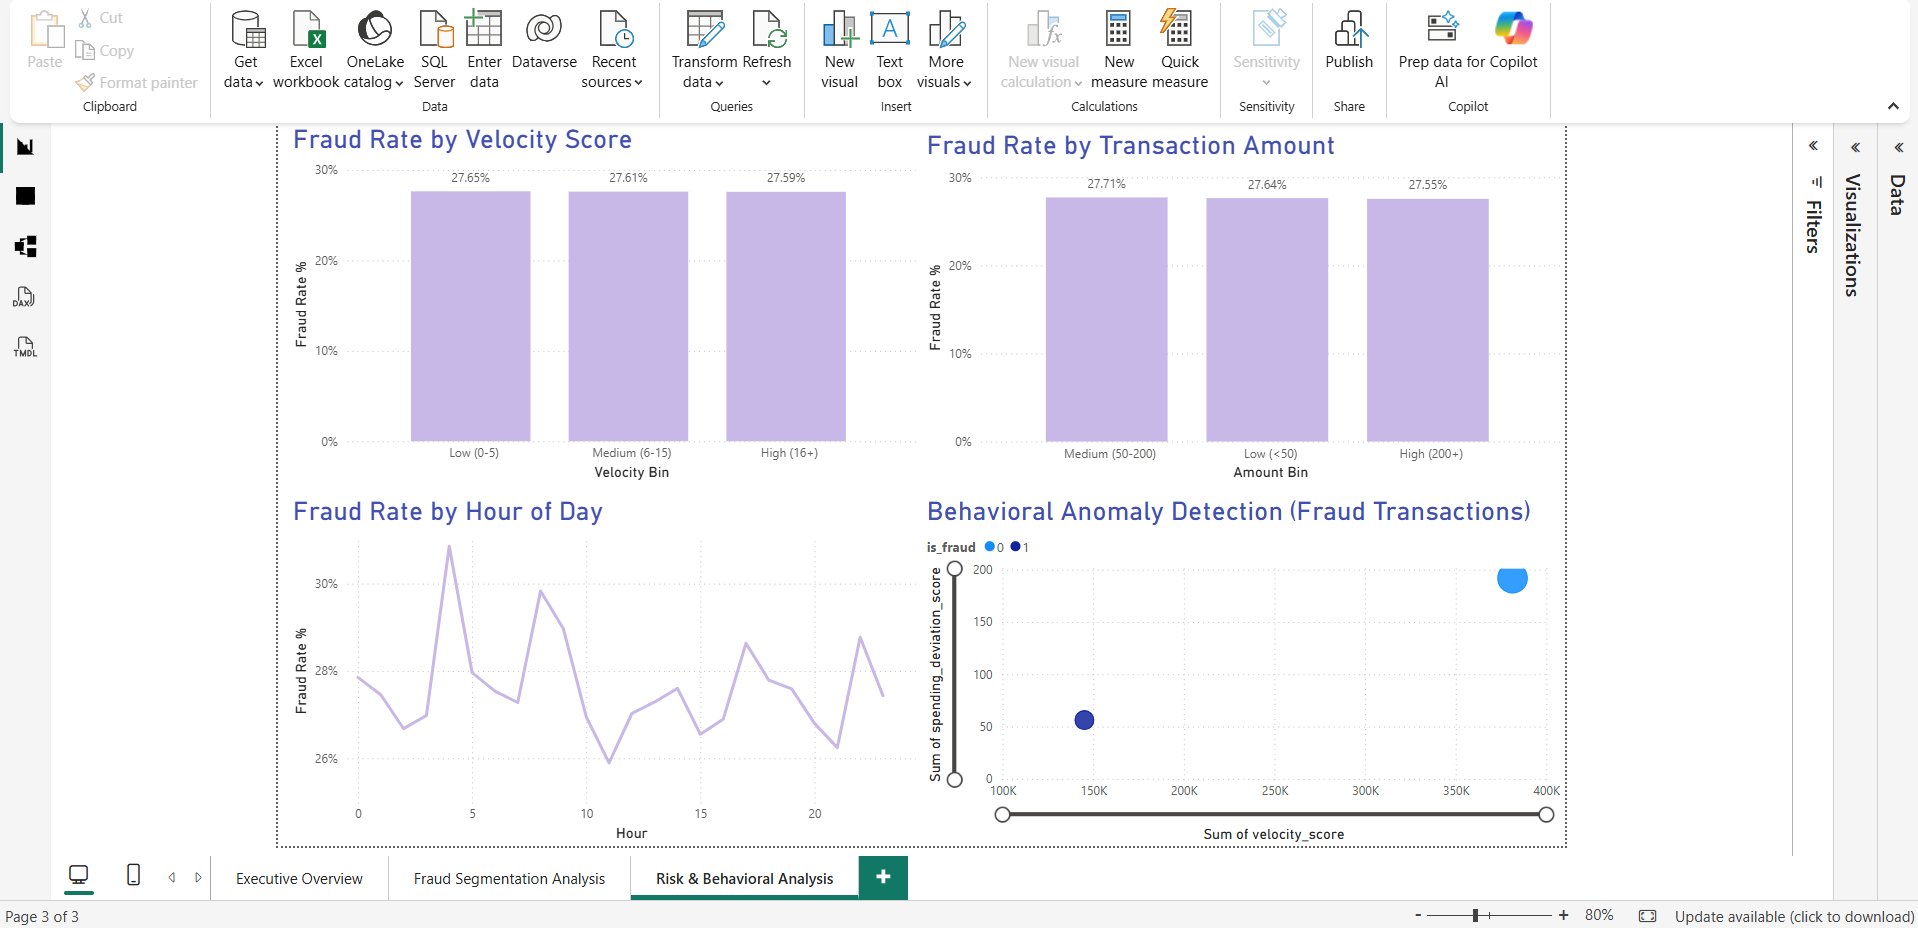

The page's visual inventory and layout, read from the dashboard file:
{"tool":"powerbi","page":{"name":"Risk & Behavioral Analysis","canvas":[1280,720],"ordinal":2},"visuals":[{"type":"clusteredColumnChart","title":"Fraud Rate by Velocity Score","fields":{"Category":["financial_fraud_detection_dataset.Velocity Bin"],"Y":["financial_fraud_detection_dataset.Fraud Rate %"]},"box":[10.3,0,629.8,360.7],"z":0},{"type":"clusteredColumnChart","title":"Fraud Rate by Transaction Amount","fields":{"Category":["financial_fraud_detection_dataset.Amount Bin"],"Y":["financial_fraud_detection_dataset.Fraud Rate %"]},"box":[640.2,5.9,640.2,354.8],"z":1},{"type":"lineChart","title":"Fraud Rate by Hour of Day","fields":{"Category":["financial_fraud_detection_dataset.Hour"],"Y":["financial_fraud_detection_dataset.Fraud Rate %"]},"box":[10,371,630,349],"z":2},{"type":"scatterChart","title":"Behavioral Anomaly Detection (Fraud Transactions)","fields":{"X":["Sum(financial_fraud_detection_dataset.velocity_score)"],"Y":["Sum(financial_fraud_detection_dataset.spending_deviation_score)"],"Size":["Sum(financial_fraud_detection_dataset.amount)"],"Series":["financial_fraud_detection_dataset.is_fraud"]},"box":[640.2,371.1,640.2,348.9],"z":3}]}

Visuals, with their boxes on the page's 1280x720 design canvas (x1, y1, x2, y2). These are canvas units, not pixel positions in the 1918x928 screenshot, which may show the page scaled, cropped or inside an application window:
"Fraud Rate by Velocity Score" clusteredColumnChart: BBox(10, 0, 640, 361)
"Fraud Rate by Transaction Amount" clusteredColumnChart: BBox(640, 6, 1280, 361)
"Fraud Rate by Hour of Day" lineChart: BBox(10, 371, 640, 720)
"Behavioral Anomaly Detection (Fraud Transactions)" scatterChart: BBox(640, 371, 1280, 720)
